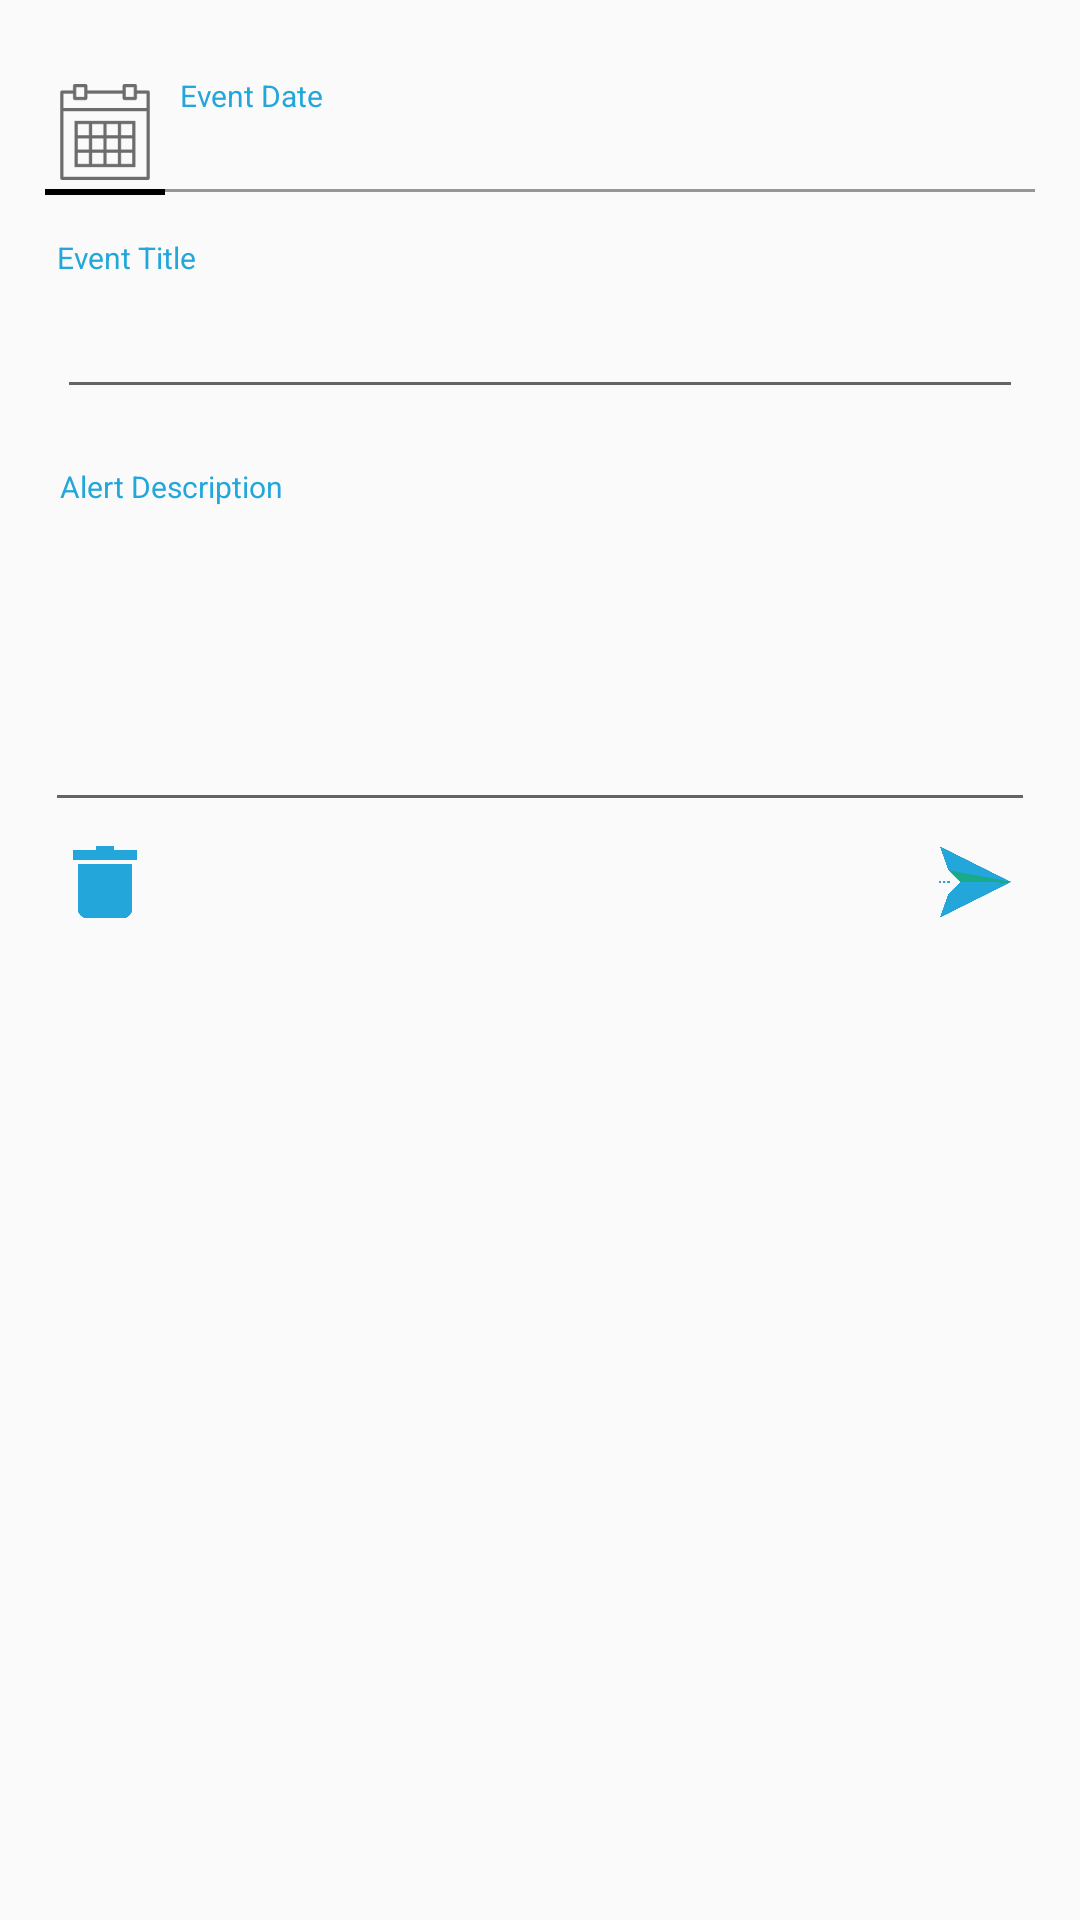

Icon click points for this 1080 × 1920 phone screenshot, format [x,y]:
calendar: [105,132]
send: [975,882]
